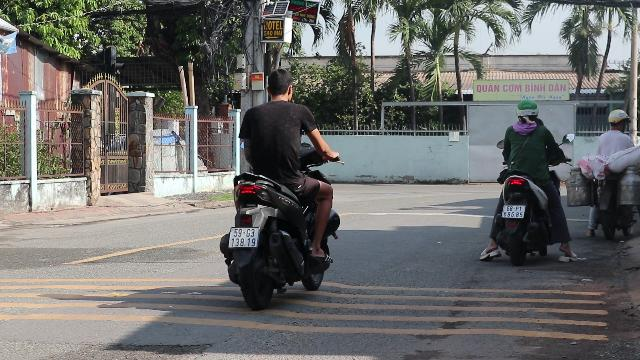helmet: (514, 98, 540, 122), (607, 108, 629, 130)
licenseplate: (230, 228, 258, 246), (502, 204, 524, 218)
motorcyclist: (218, 68, 344, 308), (484, 96, 572, 264), (588, 108, 640, 240)
nohelmet: (265, 68, 295, 102)
